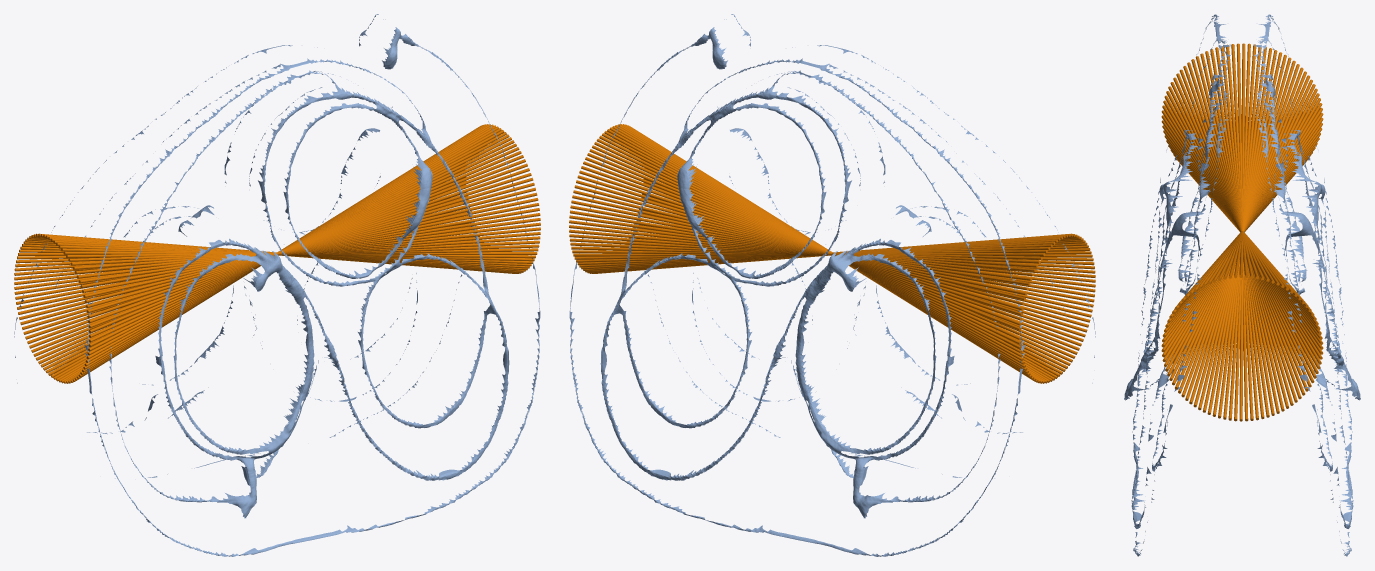
File: A20016148_6145-37-520-5297_DigitalTwin.glb
The picture shows the model from 3 angles, left to right: view 1: azimuth 30°, elevation 25°; view 2: azimuth 150°, elevation 25°; view 3: azimuth 270°, elevation 25°; orthographic projection. The views are drawn at different scales.
Visible parts, largest first — view 1: world; view 2: world; view 3: world.
Part boxes in pixels (<box>): world: <box>14,14,540,556</box>; world: <box>569,14,1095,556</box>; world: <box>1124,14,1360,556</box>.
Size of the model in its own units: 687 by 663 by 296.
